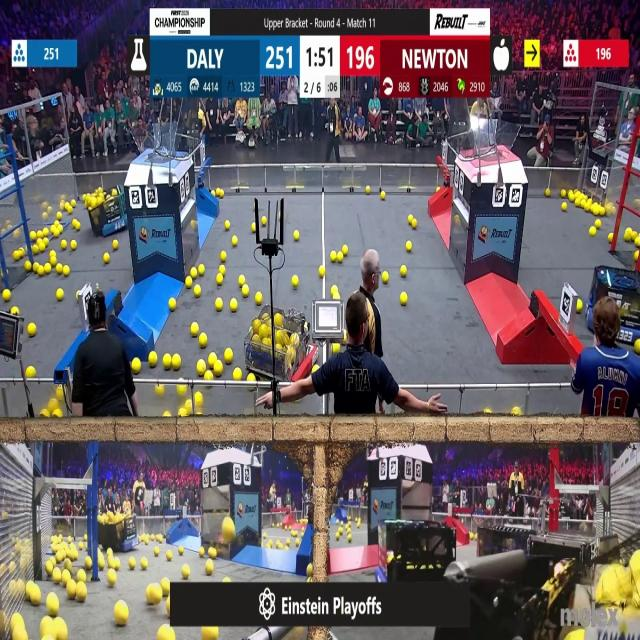ball_ground: (114, 600, 127, 625), (30, 588, 41, 606), (76, 586, 86, 602), (163, 576, 171, 594), (199, 334, 208, 349), (214, 360, 222, 376), (189, 322, 198, 336), (206, 560, 214, 575), (224, 349, 232, 364), (177, 384, 186, 397), (181, 564, 189, 578), (172, 355, 180, 369), (27, 365, 36, 377), (28, 323, 36, 336), (148, 353, 156, 366), (194, 392, 202, 405), (62, 570, 70, 583), (235, 367, 243, 379), (198, 360, 206, 372), (170, 299, 177, 312), (215, 299, 222, 312), (209, 548, 217, 559), (399, 292, 406, 304), (231, 300, 238, 312), (112, 558, 119, 570), (130, 558, 137, 570), (98, 557, 105, 569), (576, 301, 582, 314), (193, 285, 200, 296), (242, 285, 249, 296), (382, 273, 389, 284), (141, 558, 148, 569), (255, 292, 261, 304), (293, 278, 299, 290), (87, 557, 93, 569), (58, 288, 64, 300), (400, 266, 406, 278), (592, 205, 599, 215), (216, 275, 223, 285), (292, 232, 299, 242), (63, 267, 70, 277), (406, 242, 413, 252), (104, 252, 110, 263), (185, 277, 191, 288), (343, 245, 349, 256), (26, 262, 32, 273), (199, 266, 205, 277), (4, 289, 10, 300), (319, 267, 325, 278), (44, 266, 51, 275), (71, 552, 78, 561), (179, 409, 186, 418), (233, 237, 239, 247), (112, 240, 118, 250), (338, 252, 344, 262), (200, 548, 206, 558), (57, 266, 63, 276), (330, 251, 336, 261), (50, 251, 55, 263), (55, 411, 63, 418), (308, 564, 313, 575), (70, 241, 76, 250), (190, 269, 196, 278), (220, 251, 226, 260), (568, 190, 573, 200), (248, 375, 255, 382), (167, 553, 173, 561), (590, 229, 596, 237), (409, 216, 415, 224), (573, 200, 579, 208), (42, 410, 48, 418), (224, 220, 229, 229), (219, 266, 224, 275), (223, 576, 229, 583), (544, 187, 549, 195), (562, 203, 567, 211), (608, 234, 612, 243), (295, 231, 299, 240), (165, 412, 171, 418), (218, 189, 223, 196), (409, 240, 413, 248), (252, 223, 256, 231), (562, 189, 566, 196), (348, 534, 352, 541), (150, 538, 154, 543)
goal: (464, 122, 520, 159), (132, 132, 189, 158)
robot_blue: (590, 268, 640, 342), (88, 186, 126, 238), (115, 513, 140, 552)
robot_red: (272, 309, 315, 383), (243, 312, 274, 379)
